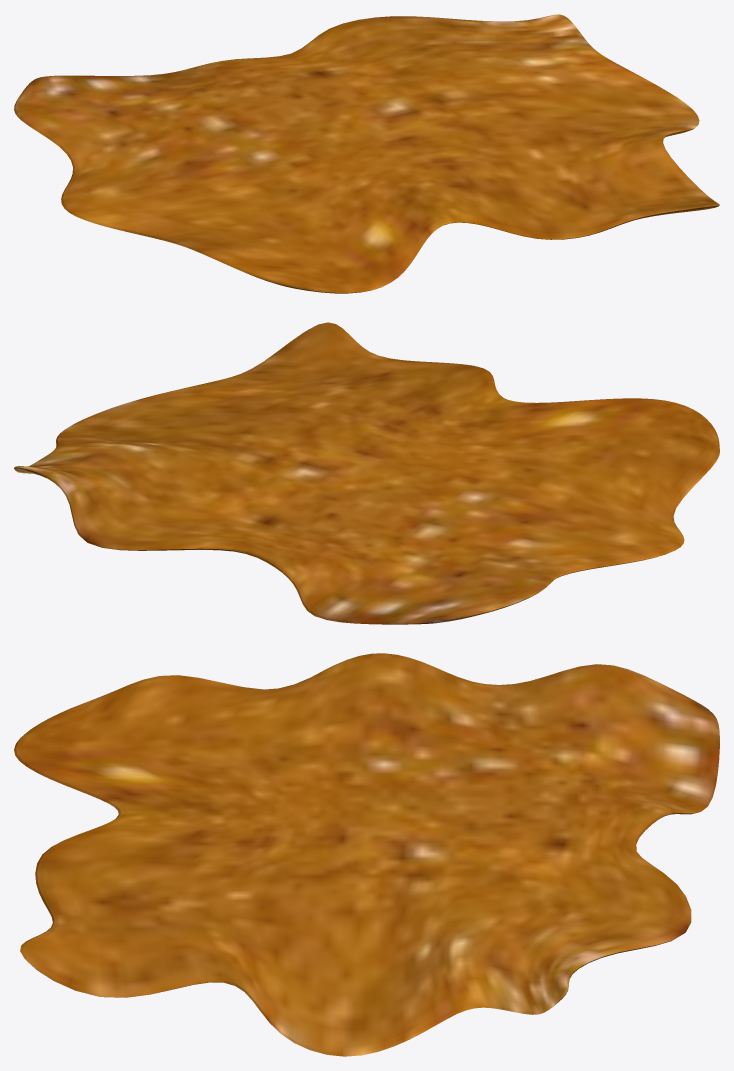
The model's file is PeanutSauce_Poured.fbx.
3 renders of one model, top to bottom at view 1: azimuth 30°, elevation 25°; view 2: azimuth 150°, elevation 25°; view 3: azimuth 270°, elevation 25°, orthographic. The views are drawn at different scales.
Visible parts, largest first — view 1: PeanutSaucePoured; view 2: PeanutSaucePoured; view 3: PeanutSaucePoured.
Boxes of the visible parts, x1,y1,x2,y2 form: PeanutSaucePoured: [14, 14, 719, 293]; PeanutSaucePoured: [14, 322, 719, 624]; PeanutSaucePoured: [14, 653, 719, 1056].
Bounding box in the file's own units: 984 × 81.44 × 820.
